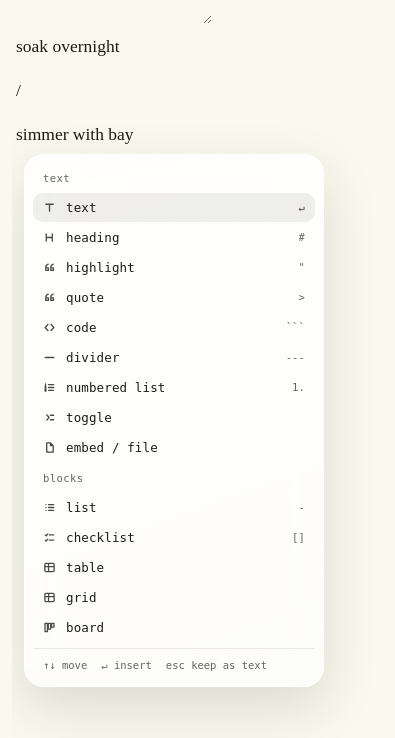
Scenario: `/` on an empty line inside a text block splits it at that line › a source picker closed without a pick leaves the block as it was
Click the option "table".
click(74, 567)  # box [43,560,104,574]
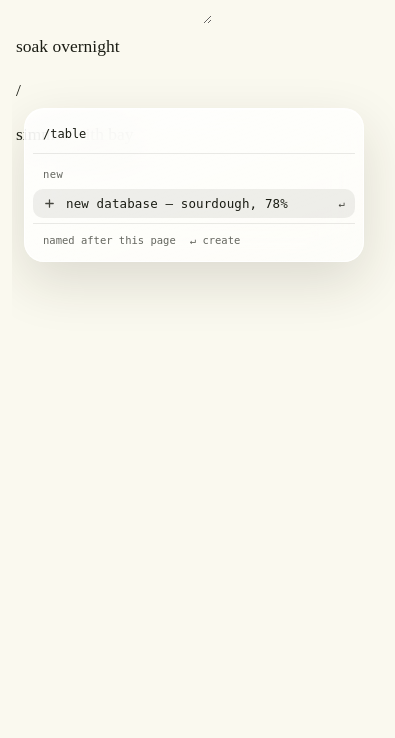
Now the list named "/table" is shown, box [33,159,355,218]
Press Escape
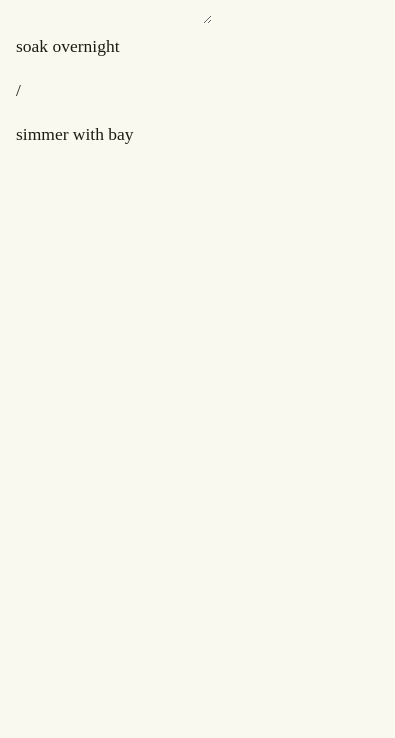
Now the list is gone
